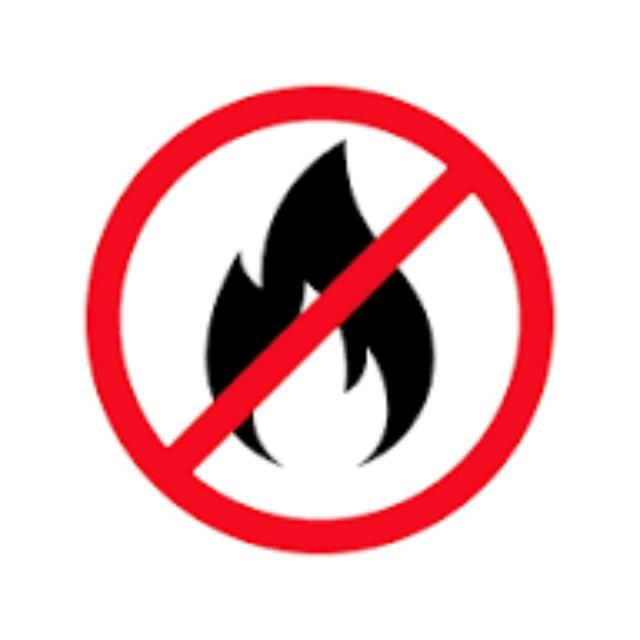cam lua: (87, 87, 547, 550)
